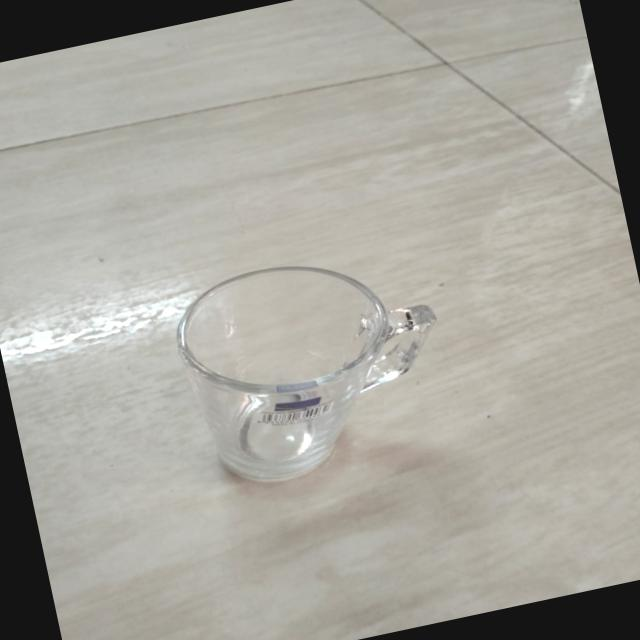glass-VX4N: (160, 232, 460, 501)
